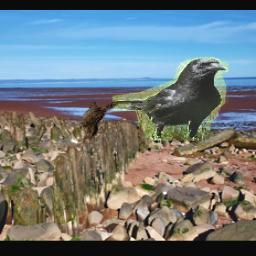Crow: (114, 58, 230, 142)
Sparrow: (81, 101, 118, 140)
